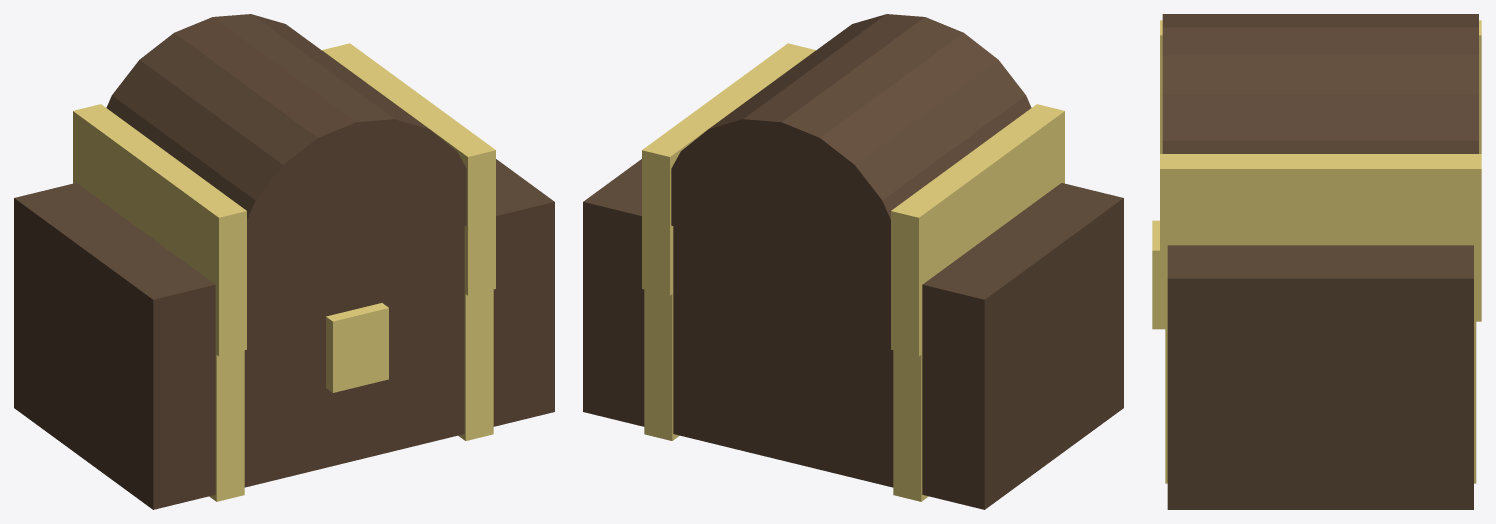
The model's file is Cofre.fbx.
3 views of the same model, side by side, from view 1: azimuth 30°, elevation 25°; view 2: azimuth 150°, elevation 25°; view 3: azimuth 270°, elevation 25° (orthographic). The views are drawn at different scales.
Parts seen in each view (by area): view 1: Cofre_Base, Cofre_Tapa, Cofre_BandaTapa, Cofre_BandaTapa.001, Cofre_Banda, Cofre_Cerradura, Cofre_Banda.001; view 2: Cofre_Base, Cofre_Tapa, Cofre_BandaTapa, Cofre_BandaTapa.001, Cofre_Banda, Cofre_Banda.001; view 3: Cofre_Base, Cofre_Tapa, Cofre_BandaTapa.001, Cofre_Banda.001, Cofre_Cerradura, Cofre_BandaTapa.
Part boxes in pixels (left/top/right/bottom): Cofre_Base: left=14, top=159, right=554, bottom=509; Cofre_Tapa: left=106, top=14, right=466, bottom=278; Cofre_BandaTapa: left=73, top=104, right=246, bottom=356; Cofre_BandaTapa.001: left=322, top=43, right=495, bottom=295; Cofre_Banda: left=75, top=176, right=244, bottom=501; Cofre_Cerradura: left=326, top=303, right=388, bottom=392; Cofre_Banda.001: left=458, top=226, right=493, bottom=440; Cofre_Base: left=583, top=159, right=1123, bottom=509; Cofre_Tapa: left=671, top=14, right=1031, bottom=278; Cofre_BandaTapa: left=891, top=104, right=1064, bottom=356; Cofre_BandaTapa.001: left=642, top=43, right=815, bottom=295; Cofre_Banda: left=893, top=253, right=962, bottom=501; Cofre_Banda.001: left=644, top=226, right=679, bottom=440; Cofre_Base: left=1167, top=245, right=1473, bottom=509; Cofre_Tapa: left=1162, top=14, right=1478, bottom=153; Cofre_BandaTapa.001: left=1160, top=154, right=1481, bottom=321; Cofre_Banda.001: left=1165, top=238, right=1476, bottom=483; Cofre_Cerradura: left=1152, top=220, right=1165, bottom=329; Cofre_BandaTapa: left=1160, top=20, right=1481, bottom=153.
Size of the model in its own units: 200 by 165 by 129.
